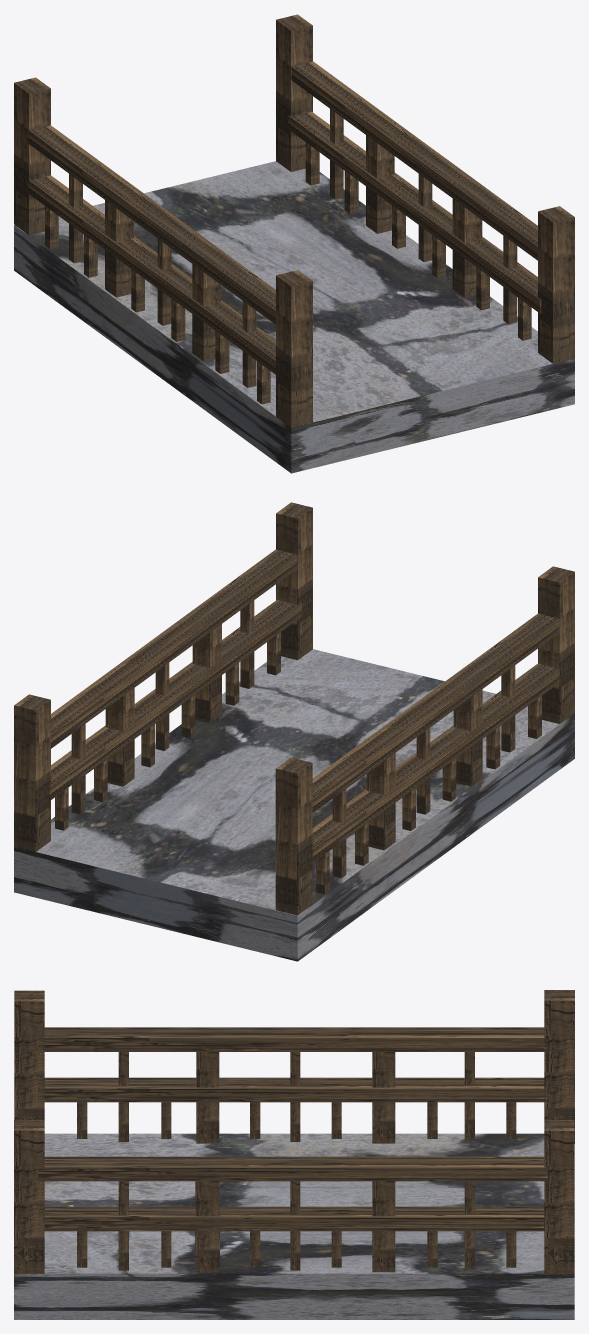
3 views of the same model, one above another, from view 1: azimuth 30°, elevation 25°; view 2: azimuth 150°, elevation 25°; view 3: azimuth 270°, elevation 25° (orthographic).
Visible parts, largest first — view 1: 立方体.005, 立方体.025, 立方体.017, 立方体.002, 立方体.003, 立方体.001, 立方体.004; view 2: 立方体.005, 立方体.025, 立方体.017, 立方体.001, 立方体.004, 立方体.002, 立方体.003; view 3: 立方体.005, 立方体.025, 立方体.017, 立方体.004, 立方体.003, 立方体.001, 立方体.002.
Part boxes in pixels (bbox=[...]): 立方体.005: bbox=[14, 161, 574, 473]; 立方体.025: bbox=[288, 61, 541, 340]; 立方体.017: bbox=[27, 125, 279, 404]; 立方体.002: bbox=[276, 270, 312, 427]; 立方体.003: bbox=[538, 206, 574, 363]; 立方体.001: bbox=[14, 77, 50, 235]; 立方体.004: bbox=[276, 14, 312, 171]; 立方体.005: bbox=[14, 649, 574, 961]; 立方体.025: bbox=[49, 549, 301, 830]; 立方体.017: bbox=[311, 613, 559, 894]; 立方体.001: bbox=[275, 757, 312, 915]; 立方体.004: bbox=[14, 694, 50, 852]; 立方体.002: bbox=[538, 566, 574, 723]; 立方体.003: bbox=[276, 502, 312, 659]; 立方体.005: bbox=[14, 1133, 574, 1319]; 立方体.025: bbox=[38, 1156, 547, 1272]; 立方体.017: bbox=[38, 1027, 547, 1143]; 立方体.004: bbox=[544, 1120, 574, 1273]; 立方体.003: bbox=[14, 1120, 44, 1273]; 立方体.001: bbox=[544, 990, 574, 1143]; 立方体.002: bbox=[14, 990, 44, 1119].
Size of the model in its own units: 1302 by 822 by 2201.
